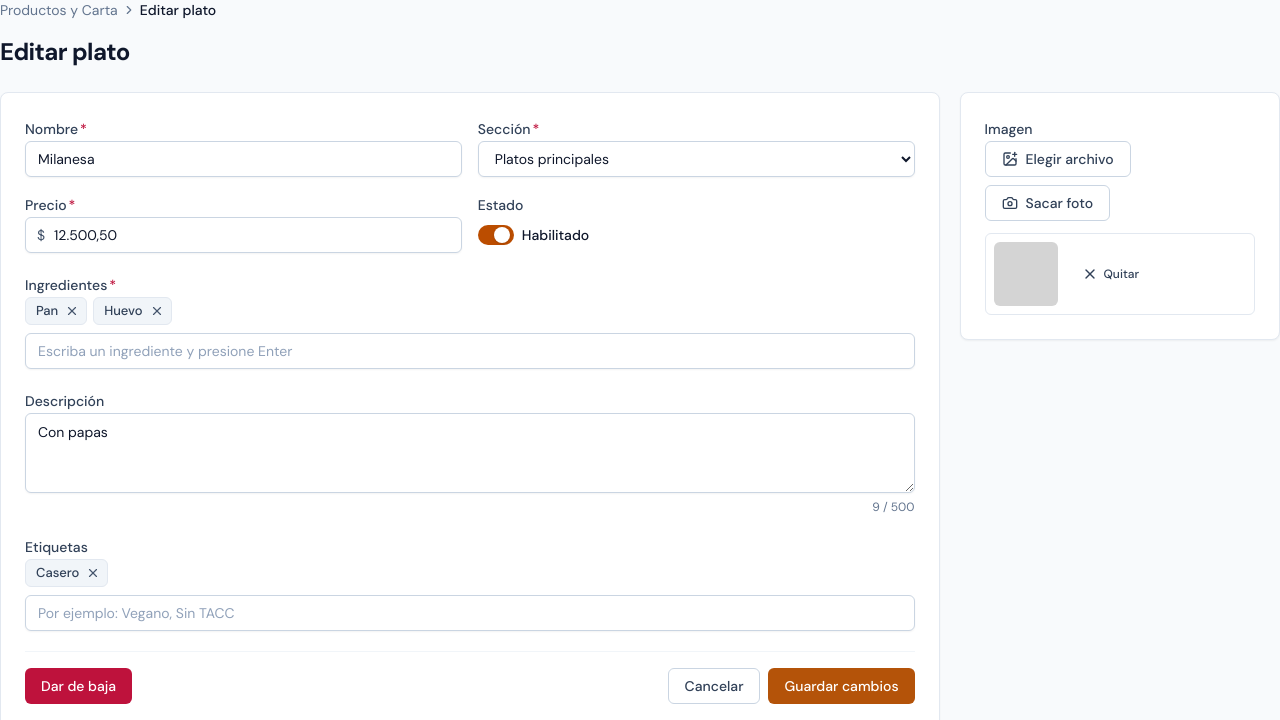
ProductoEditarPage: estado y baja › cancelar el diálogo no envía ninguna solicitud
expect the field showing "Milanesa" is shown: met, box [25, 141, 462, 177]
Click the button "Dar de baja". click: point(79, 686)
box: [25, 668, 132, 704]
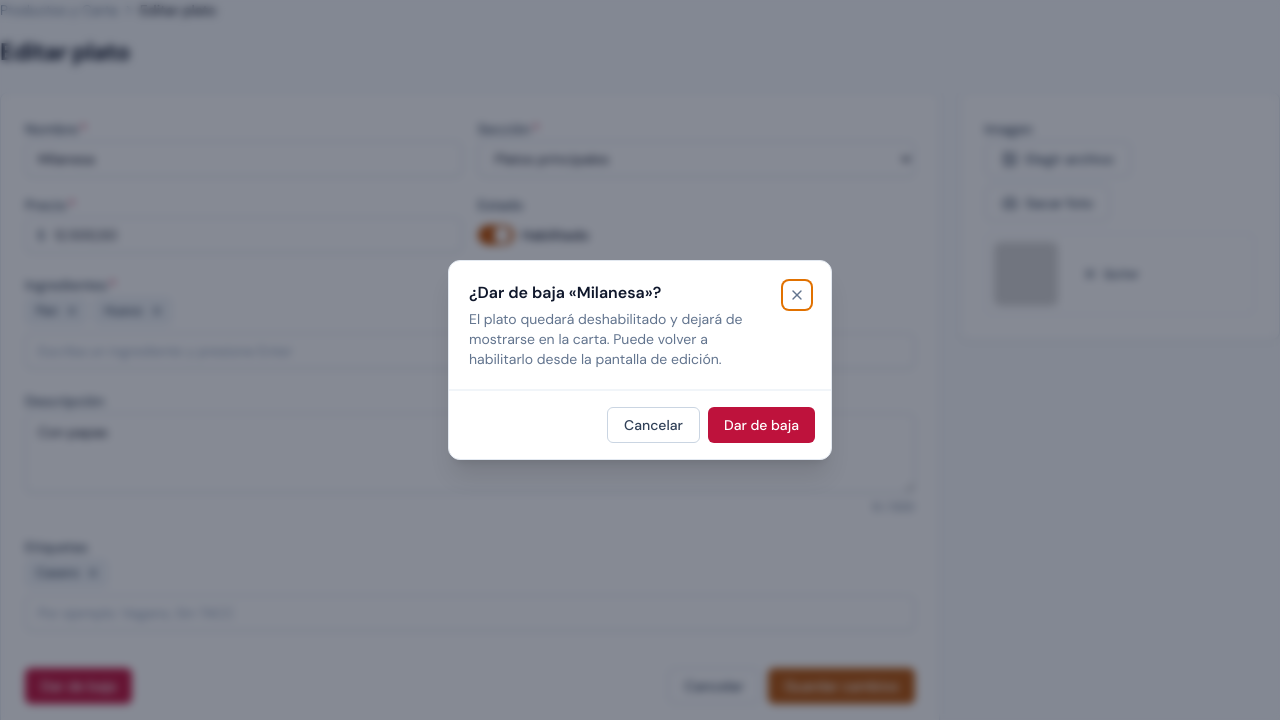
Click the button "Cancelar". click: point(653, 425)
box: [607, 407, 700, 443]
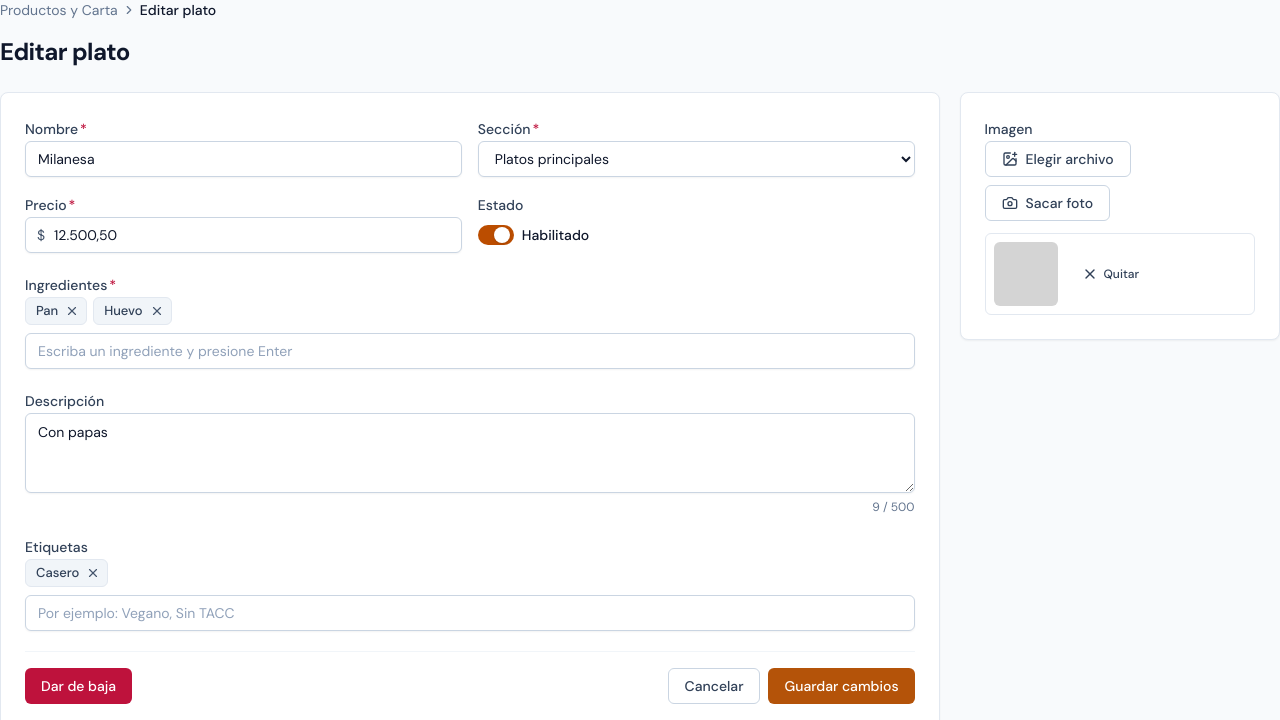
expect the dialog is gone: met
